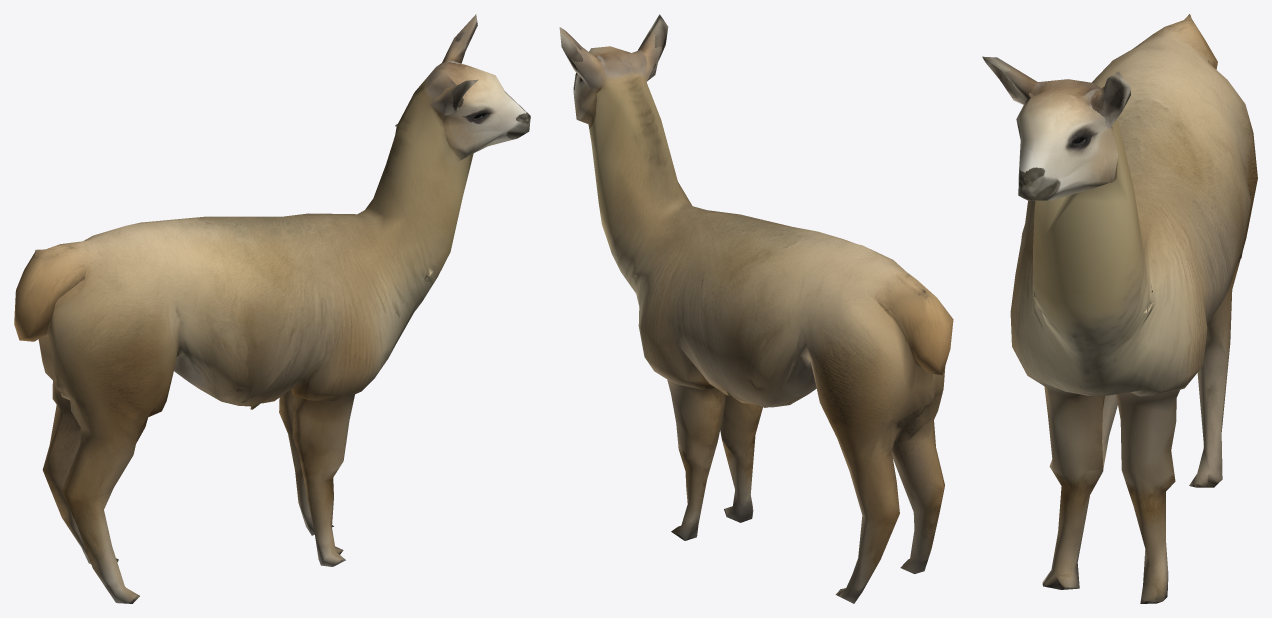
Rendered from llama_white_single_1500.glb.
3 views of the same model, side by side, from view 1: azimuth 30°, elevation 25°; view 2: azimuth 150°, elevation 25°; view 3: azimuth 270°, elevation 25° (orthographic). The views are drawn at different scales.
Bounding box in the file's own units: 0.8194 × 0.8528 × 0.3407.
1 material, 1 textured.
